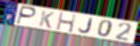0: (96, 20, 113, 38)
2: (114, 22, 133, 41)
H: (55, 12, 77, 34)
J: (77, 18, 93, 34)
K: (38, 9, 56, 30)
P: (15, 5, 37, 26)
